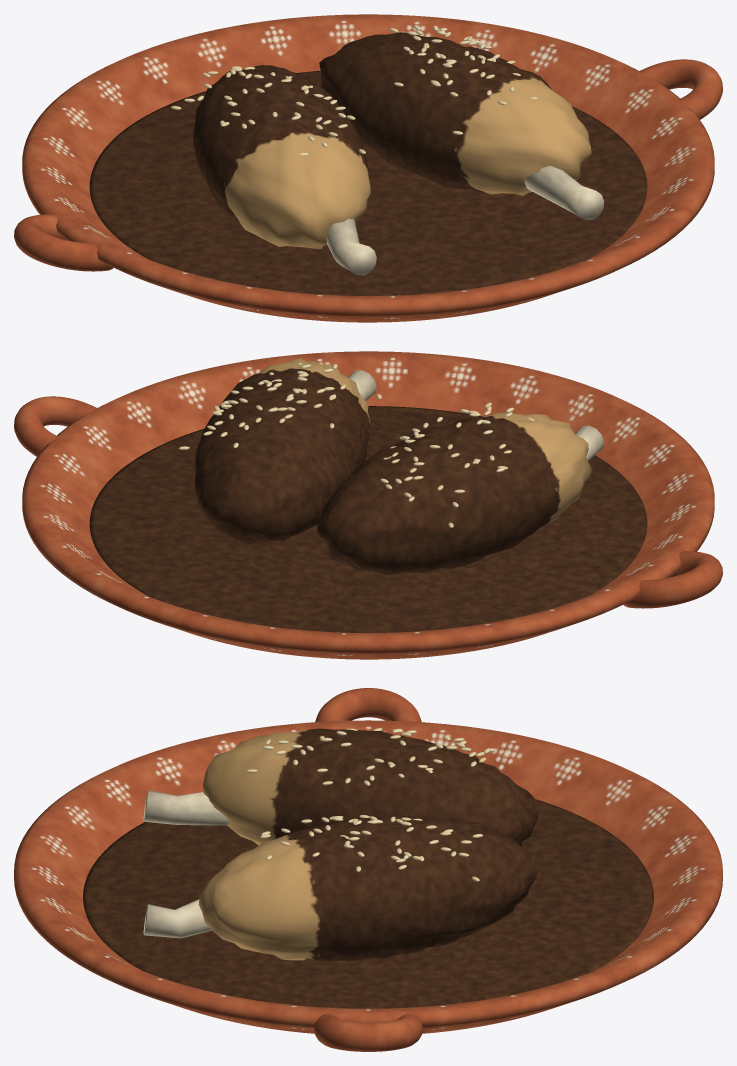
File: plato_mole.gltf
3 views of the same model, one above another, from view 1: azimuth 30°, elevation 25°; view 2: azimuth 150°, elevation 25°; view 3: azimuth 270°, elevation 25° (orthographic). The views are drawn at different scales.
Parts seen in each view (by area): view 1: cazuela_mole, mole_salsa, pollo_cubierto_mole.001, pollo_cubierto_mole, asa_cazuela, ajonjoli, asa_cazuela.001, hueso_pierna.001, hueso_pierna; view 2: cazuela_mole, mole_salsa, pollo_cubierto_mole, pollo_cubierto_mole.001, asa_cazuela, ajonjoli, asa_cazuela.001, hueso_pierna, hueso_pierna.001; view 3: cazuela_mole, mole_salsa, pollo_cubierto_mole.001, pollo_cubierto_mole, ajonjoli, asa_cazuela.001, asa_cazuela, hueso_pierna, hueso_pierna.001.
Part boxes in pixels (x1,y1,x2,y2): cazuela_mole: [22, 14, 714, 322]; mole_salsa: [89, 71, 647, 295]; pollo_cubierto_mole.001: [319, 32, 591, 195]; pollo_cubierto_mole: [193, 65, 370, 248]; asa_cazuela: [14, 214, 113, 271]; ajonjoli: [171, 25, 537, 155]; asa_cazuela.001: [639, 59, 722, 119]; hueso_pierna.001: [524, 165, 604, 219]; hueso_pierna: [326, 218, 376, 275]; cazuela_mole: [22, 351, 714, 659]; mole_salsa: [89, 406, 647, 632]; pollo_cubierto_mole: [317, 412, 591, 575]; pollo_cubierto_mole.001: [194, 358, 370, 544]; asa_cazuela: [623, 551, 722, 608]; ajonjoli: [178, 362, 534, 527]; asa_cazuela.001: [14, 396, 97, 456]; hueso_pierna: [575, 425, 604, 460]; hueso_pierna.001: [348, 370, 376, 400]; cazuela_mole: [14, 720, 722, 1033]; mole_salsa: [83, 799, 653, 1008]; pollo_cubierto_mole.001: [198, 815, 536, 961]; pollo_cubierto_mole: [203, 728, 538, 845]; ajonjoli: [246, 728, 495, 881]; asa_cazuela.001: [314, 1014, 422, 1051]; asa_cazuela: [315, 688, 421, 722]; hueso_pierna: [143, 790, 230, 825]; hueso_pierna.001: [143, 899, 211, 938].
Size of the model in its own units: 0.336 by 0.0732 by 0.29.
7 materials, 7 textured.
